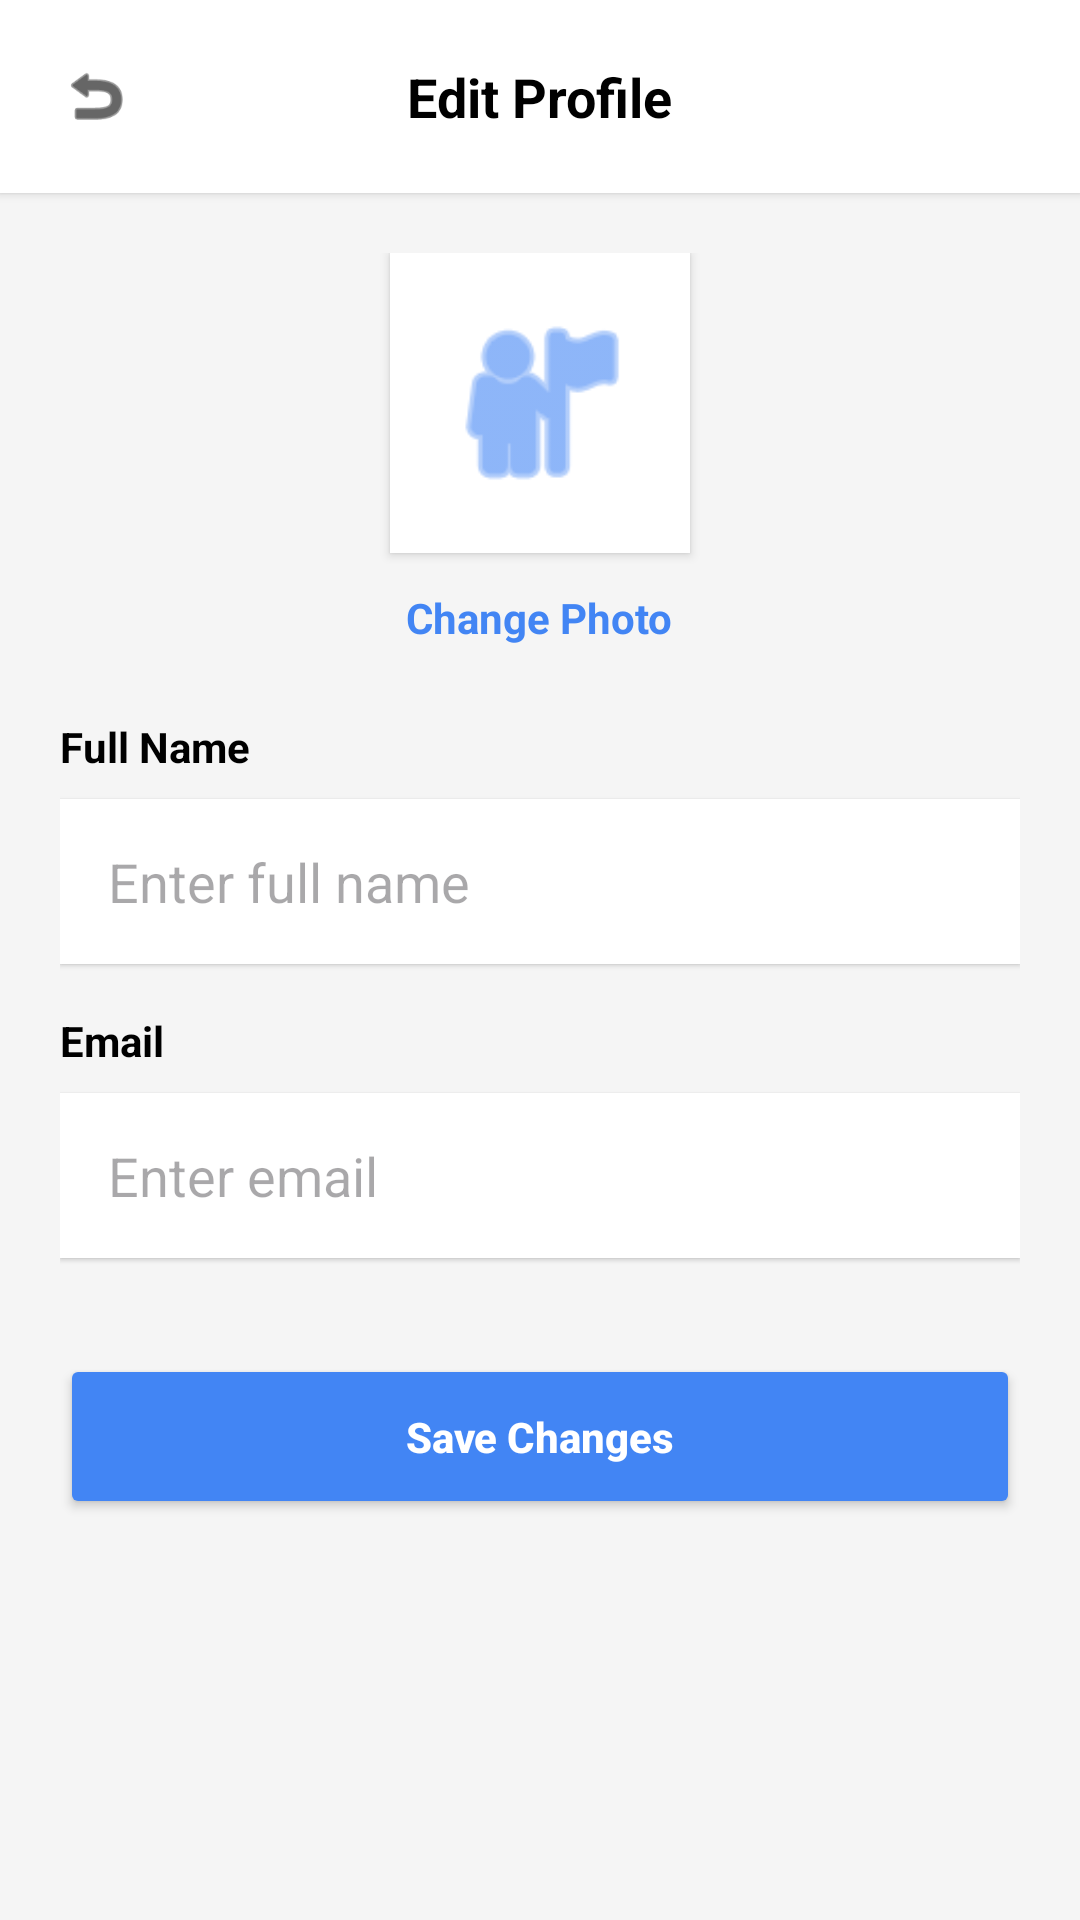

Screen size 1080*1920. Icon name, then its center in pixels as point (x, y):
myplaces: point (542, 403)
revert: point (97, 96)
